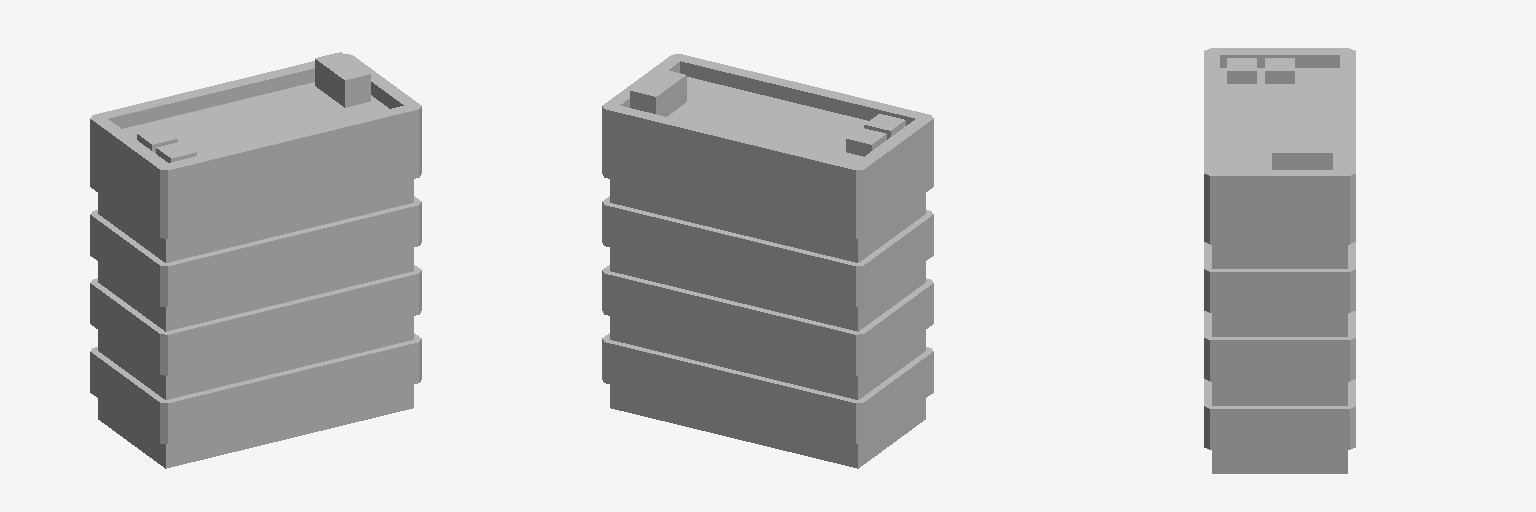
File: low-detail-building-wide-b.obj
3 renders of one model, left to right at view 1: azimuth 30°, elevation 25°; view 2: azimuth 150°, elevation 25°; view 3: azimuth 270°, elevation 25°, orthographic.
Visible parts, largest first — view 1: low-detail-building-wide-b; view 2: low-detail-building-wide-b; view 3: low-detail-building-wide-b.
Boxes of the visible parts, x1=… form: low-detail-building-wide-b: x1=90, y1=52, x2=421, y2=468; low-detail-building-wide-b: x1=602, y1=54, x2=933, y2=468; low-detail-building-wide-b: x1=1204, y1=48, x2=1355, y2=473.
Size of the model in its own units: 1 by 1.15 by 0.5.